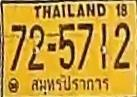1: (101, 23, 107, 70)
2: (27, 24, 45, 70), (114, 22, 130, 70)
5: (58, 23, 74, 69)
7: (77, 22, 95, 69), (11, 24, 26, 69)
SPK: (29, 73, 113, 95)
